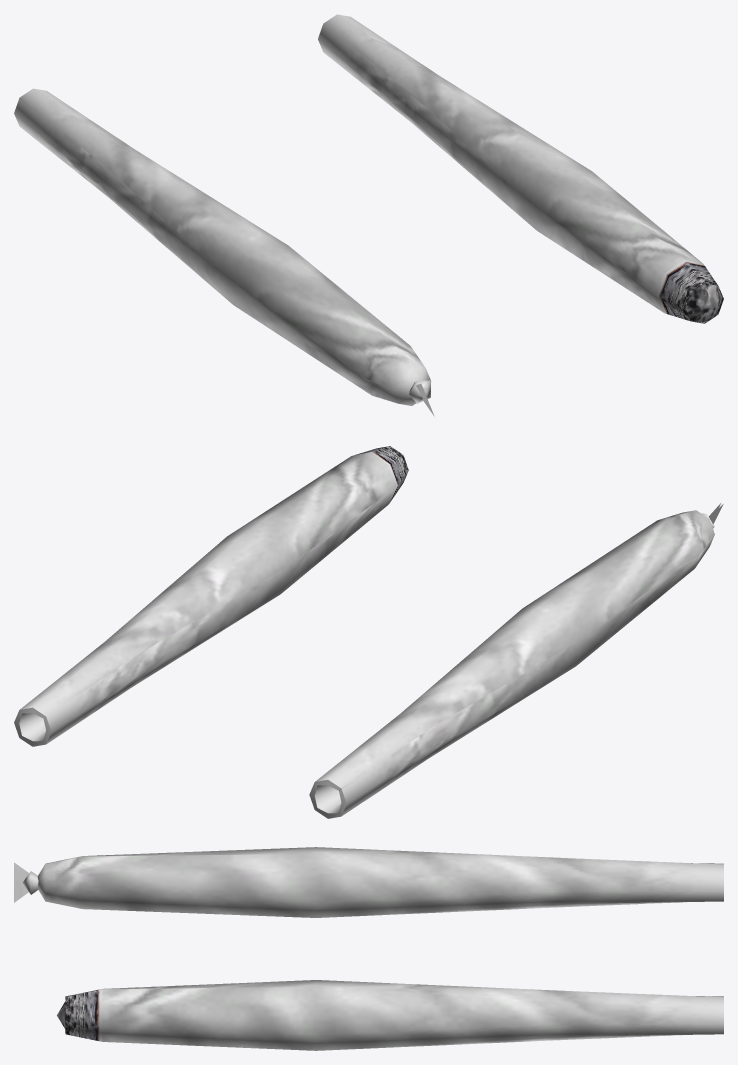
The model's file is cigarette.glb.
The picture shows the model from 3 angles, top to bottom: view 1: azimuth 30°, elevation 25°; view 2: azimuth 150°, elevation 25°; view 3: azimuth 270°, elevation 25°; orthographic projection. The views are drawn at different scales.
Visible parts, largest first — view 1: Joint, Joint Lit; view 2: Joint, Joint Lit; view 3: Joint, Joint Lit.
Part boxes in pixels (left/top/right/bottom): Joint: left=14, top=88, right=434, bottom=416; Joint Lit: left=318, top=14, right=723, bottom=323; Joint: left=309, top=503, right=723, bottom=818; Joint Lit: left=14, top=446, right=408, bottom=746; Joint: left=14, top=847, right=723, bottom=917; Joint Lit: left=57, top=980, right=723, bottom=1050.
Size of the model in its own units: 0.167 by 0.0299 by 0.3099.
1 material, 1 textured.
